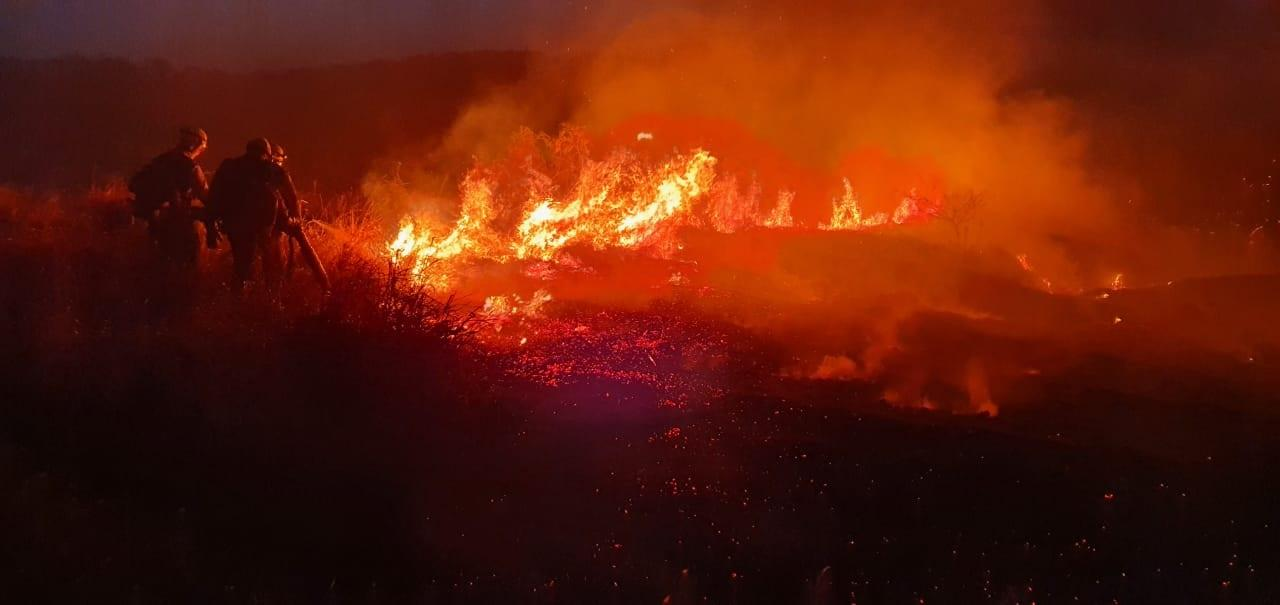fire: (369, 169, 921, 275), (475, 283, 551, 322), (1111, 269, 1125, 292)
